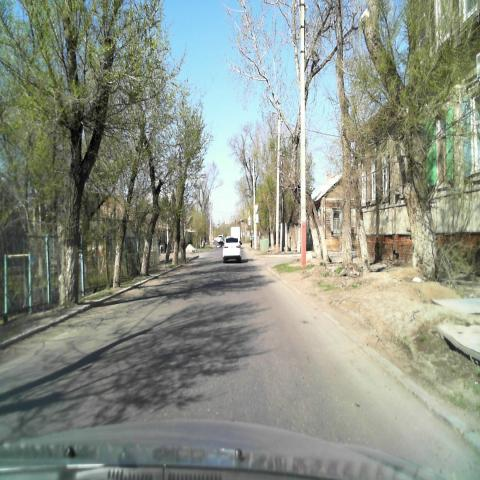2_4: (253, 204, 259, 213)
8_13: (253, 214, 259, 223)
